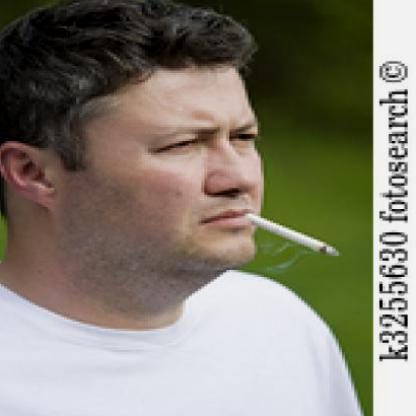cigarette: (242, 212, 342, 258)
person: (0, 5, 284, 415)
